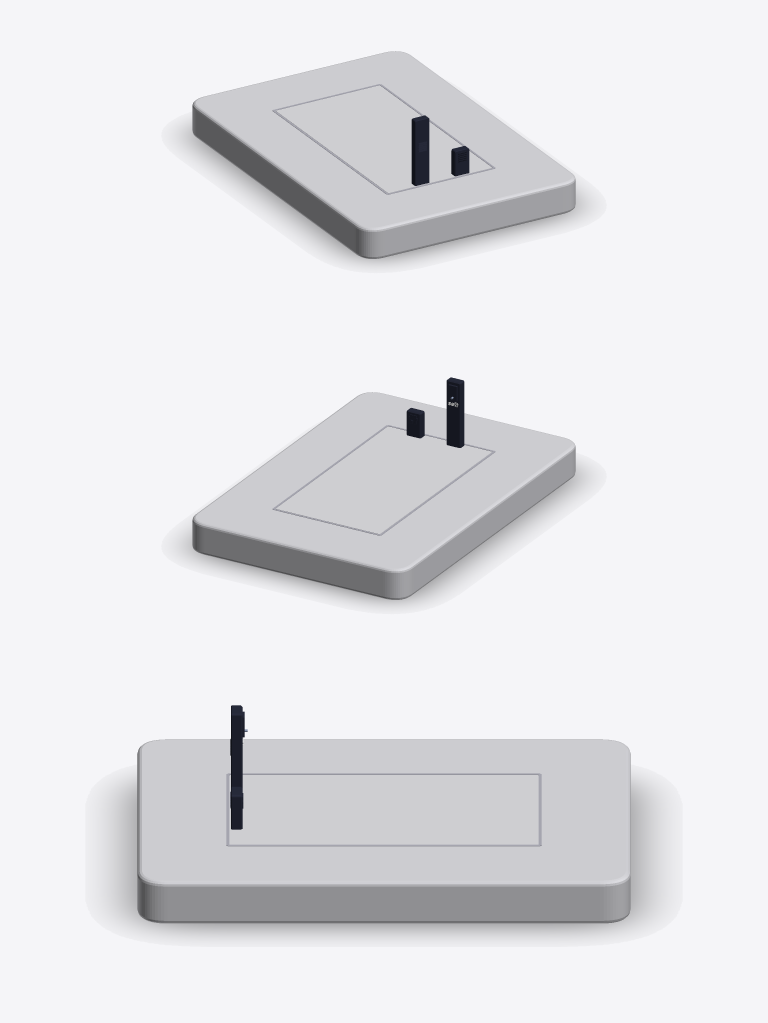
Rendered from sett-scroll-cijfer-0m2.glb.
The picture shows the model from 3 angles, top to bottom: view 1: azimuth 30°, elevation 25°; view 2: azimuth 150°, elevation 25°; view 3: azimuth 270°, elevation 25°; orthographic projection. The views are drawn at different scales.
Parts seen in each view (by area): view 1: object 1, object 6, contact_shadow, Charge_pole, Exhaust; view 2: object 1, object 6, contact_shadow, Charge_pole, Exhaust; view 3: object 1, object 6, contact_shadow, Charge_pole, object 5, object 4, Exhaust.
Boxes of the visible parts, x1=… form: object 1: x1=192, y1=51, x2=575, y2=258; object 6: x1=276, y1=85, x2=491, y2=193; contact_shadow: x1=186, y1=127, x2=581, y2=262; Charge_pole: x1=411, y1=115, x2=429, y2=185; Exhaust: x1=451, y1=146, x2=469, y2=176; object 1: x1=192, y1=392, x2=575, y2=599; object 6: x1=276, y1=426, x2=491, y2=534; contact_shadow: x1=186, y1=468, x2=581, y2=603; Charge_pole: x1=446, y1=377, x2=464, y2=447; Exhaust: x1=406, y1=408, x2=424, y2=438; object 1: x1=137, y1=739, x2=630, y2=923; object 6: x1=230, y1=775, x2=537, y2=844; contact_shadow: x1=116, y1=782, x2=651, y2=933; Charge_pole: x1=230, y1=705, x2=244, y2=787; object 5: x1=227, y1=844, x2=540, y2=846; object 4: x1=227, y1=773, x2=540, y2=775; Exhaust: x1=230, y1=786, x2=243, y2=829.
Size of the model in its own units: 978 by 192 by 978.
Materials: 8 (1 with a texture image).
